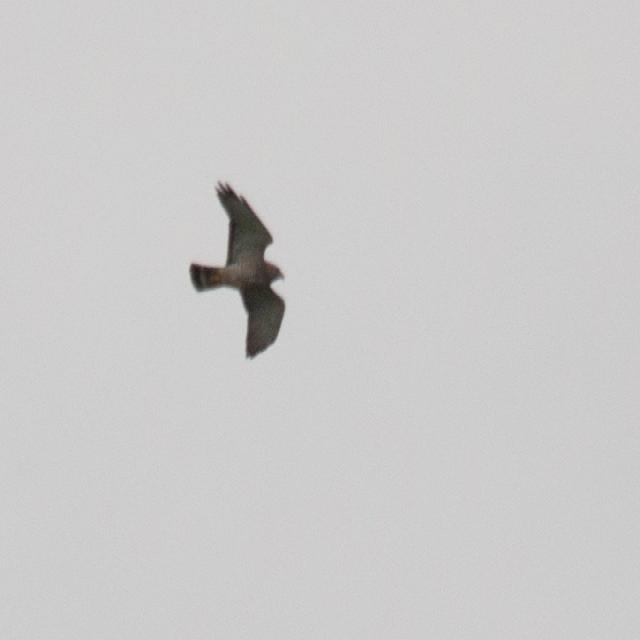bird: (185, 175, 292, 363)
